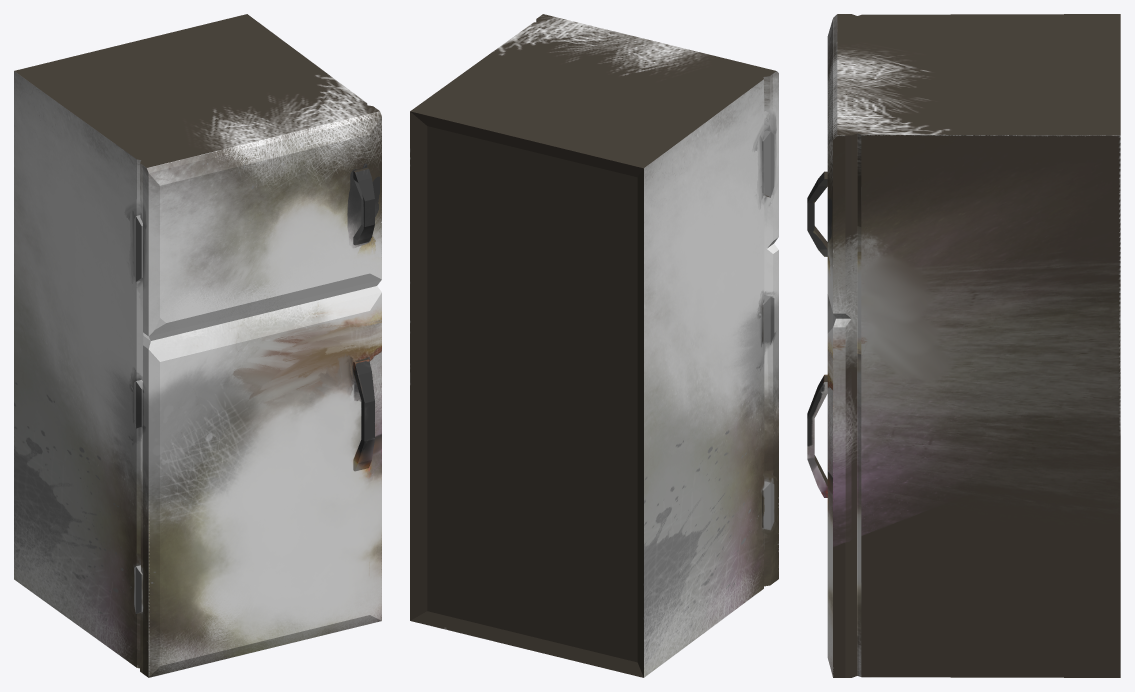
Rendered from koelkast.fbx.
3 renders of one model, left to right at view 1: azimuth 30°, elevation 25°; view 2: azimuth 150°, elevation 25°; view 3: azimuth 270°, elevation 25°, orthographic. The views are drawn at different scales.
Visible parts, largest first — view 1: Cube; view 2: Cube; view 3: Cube.
Part boxes in pixels (x1,y1,x2,y2): Cube: (14, 14, 381, 677); Cube: (410, 14, 778, 677); Cube: (807, 14, 1120, 677).
Size of the model in its own units: 74.39 by 153 by 80.24.
